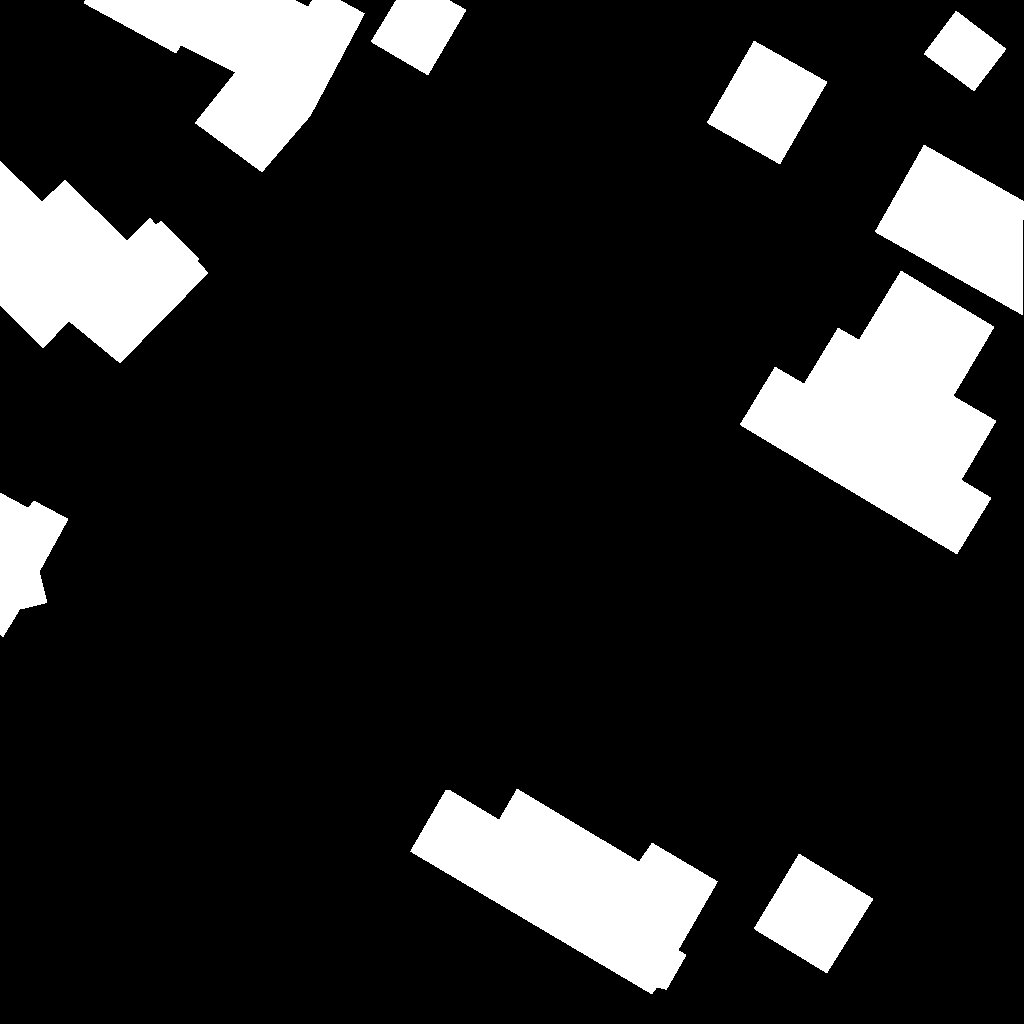building: (740, 271, 997, 555), (410, 789, 719, 995), (84, 0, 366, 173), (0, 161, 209, 364), (875, 145, 1024, 316), (707, 41, 828, 165), (754, 854, 874, 974), (0, 493, 69, 638), (371, 0, 467, 76), (924, 11, 1007, 92)
